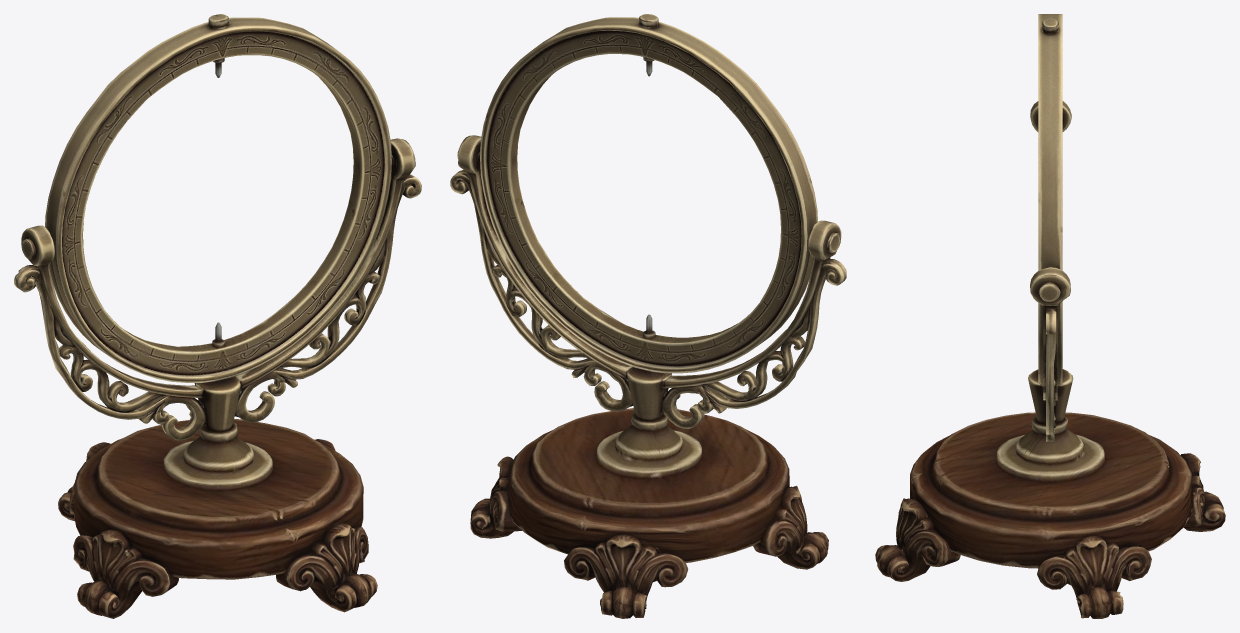
The model's file is globe_stand.glb.
3 views of the same model, side by side, from view 1: azimuth 30°, elevation 25°; view 2: azimuth 150°, elevation 25°; view 3: azimuth 270°, elevation 25° (orthographic). The views are drawn at different scales.
Bounding box in the file's own units: 0.7378 × 0.9512 × 0.5727.
Materials: 1 (1 with a texture image).
